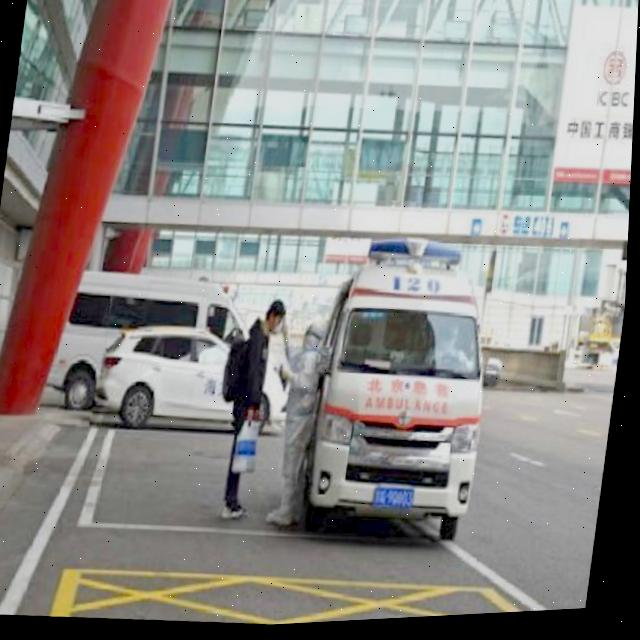emergency: (293, 230, 512, 554)
